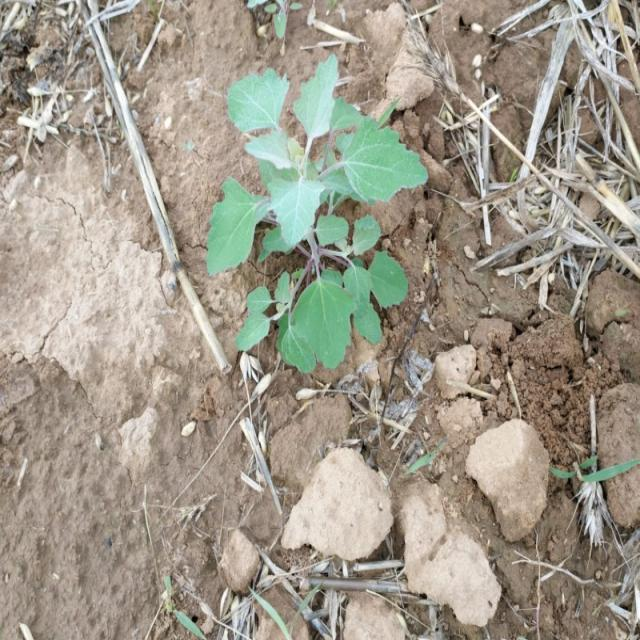goosefoots: (196, 65, 424, 365)
